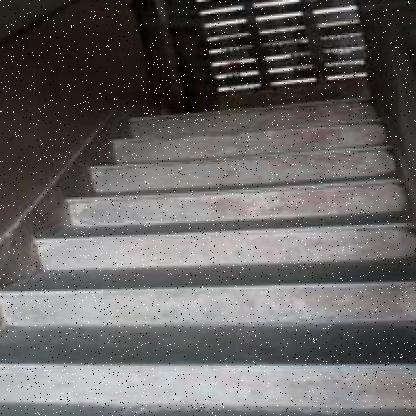stair_up: (15, 181, 391, 411)
